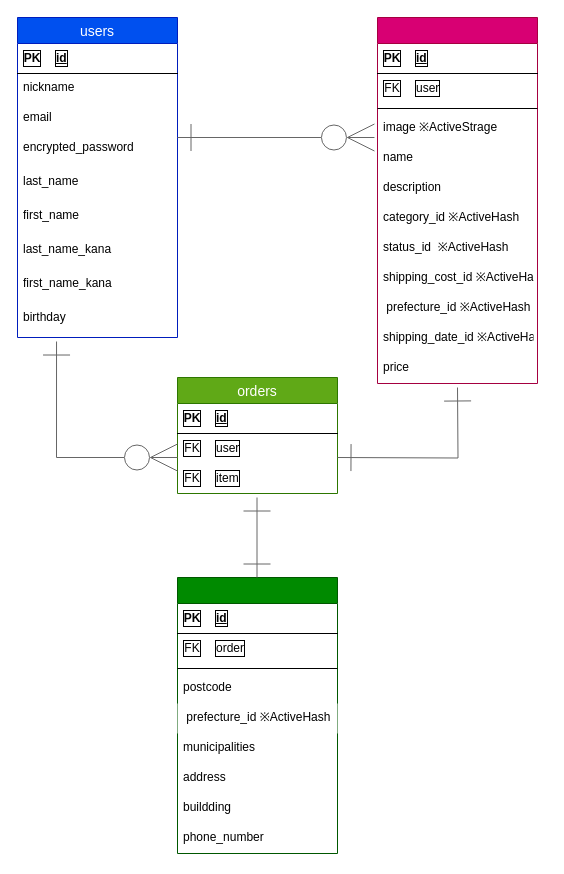
Image size: 564x874. Some labels were removed from this diagram. The shapes that lost their labels are listed below. From the top down, each one's box as (x1, y1, x2, y2) in pixels, then its label:
(376, 16, 538, 384): items
(176, 576, 338, 854): destinations
